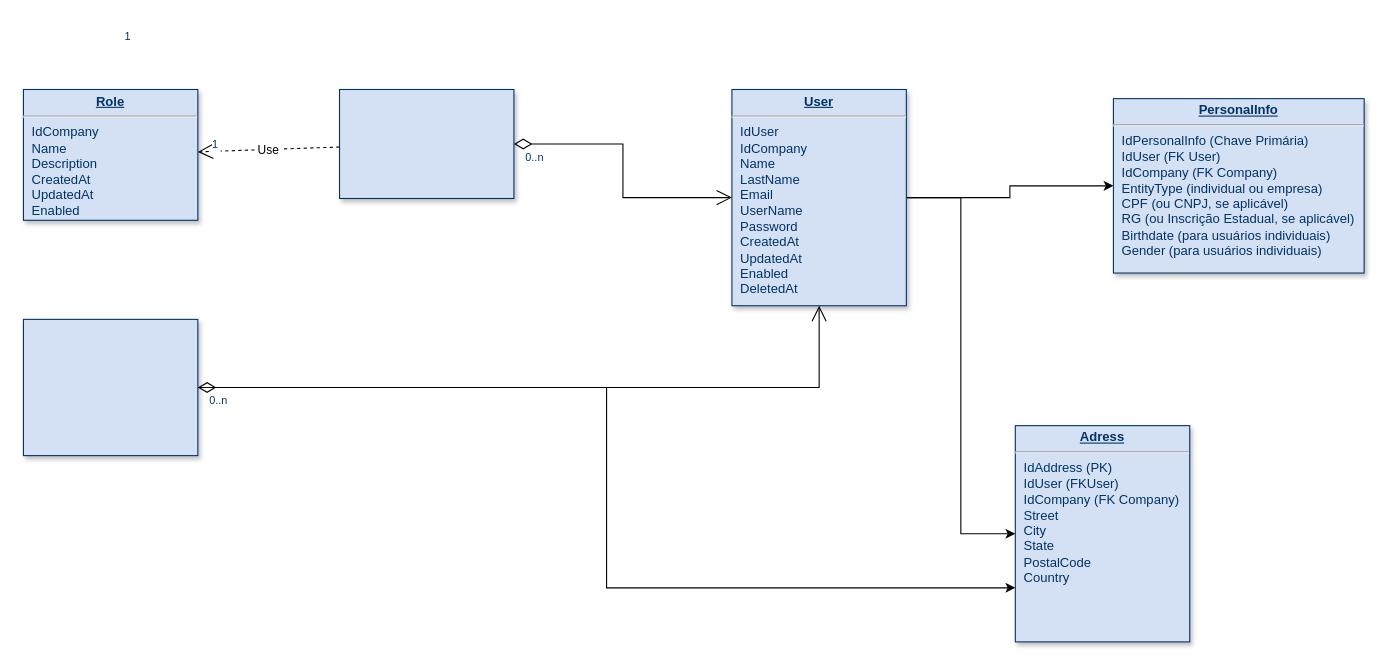
Some shapes in this 1390 by 669 pixel diagram are drawn without their labels. The centre of each missing label's shape, as x and y in pixels:
"Company Name Description CreatedAt UpdatedAt Enabled" goes at point (111, 388).
"UserRole IdUserProjectRole IdRole IdProject IdUser" goes at point (427, 145).
